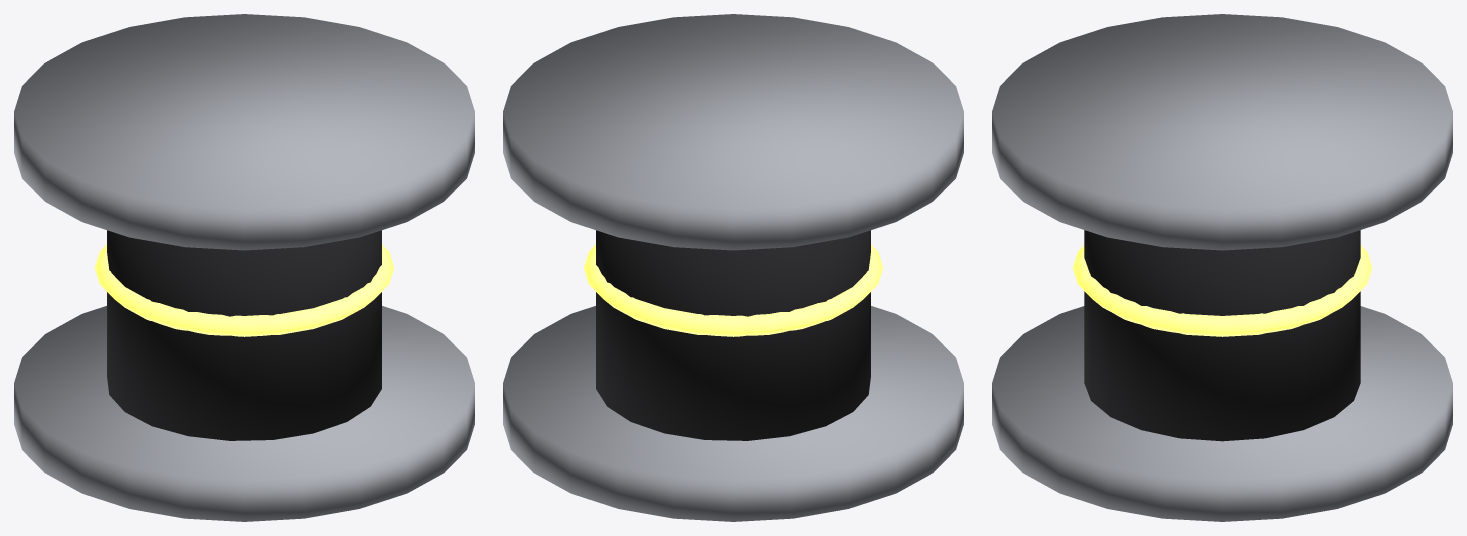
File: cable_bundle_spool.glb
3 renders of one model, left to right at view 1: azimuth 30°, elevation 25°; view 2: azimuth 150°, elevation 25°; view 3: azimuth 270°, elevation 25°, orthographic.
Visible parts, largest first — view 1: GD_cable_bundle_spool__m0, GD_cable_bundle_spool__m1, GD_cable_bundle_spool__m2; view 2: GD_cable_bundle_spool__m0, GD_cable_bundle_spool__m1, GD_cable_bundle_spool__m2; view 3: GD_cable_bundle_spool__m0, GD_cable_bundle_spool__m1, GD_cable_bundle_spool__m2.
Part boxes in pixels (x1,y1,x2,y2): GD_cable_bundle_spool__m0: (14, 14, 474, 521); GD_cable_bundle_spool__m1: (107, 230, 381, 440); GD_cable_bundle_spool__m2: (95, 244, 393, 336); GD_cable_bundle_spool__m0: (503, 14, 963, 521); GD_cable_bundle_spool__m1: (596, 230, 870, 440); GD_cable_bundle_spool__m2: (584, 244, 882, 336); GD_cable_bundle_spool__m0: (992, 14, 1452, 521); GD_cable_bundle_spool__m1: (1084, 230, 1360, 441); GD_cable_bundle_spool__m2: (1073, 245, 1371, 336).
Size of the model in its own units: 0.4 by 0.3 by 0.4.
